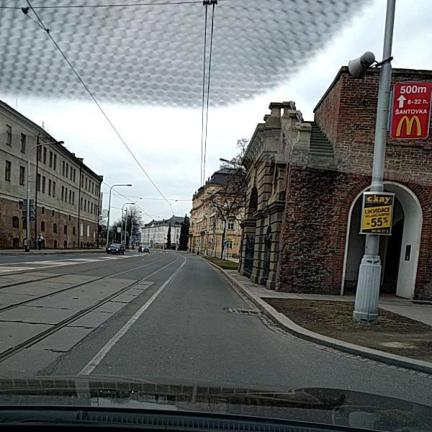Road: (0, 251, 431, 405)
